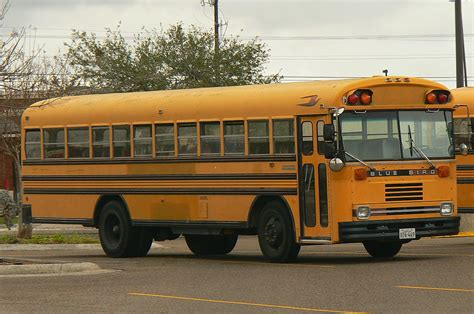bus: (21, 76, 459, 257)
